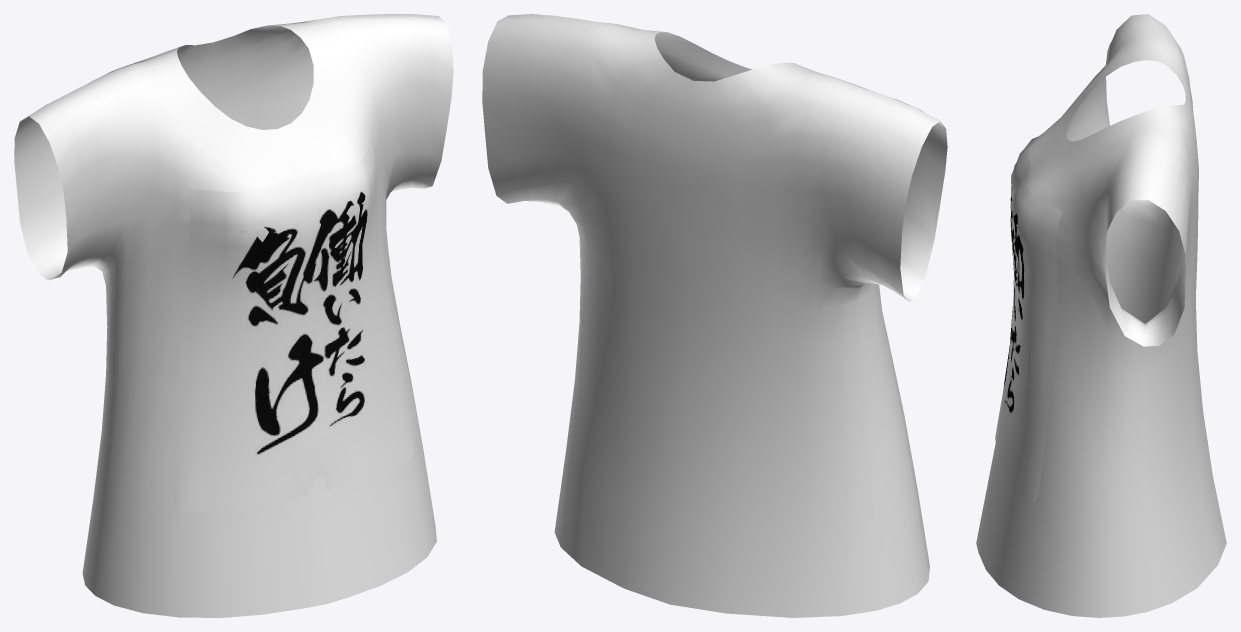
The model's file is yuruT.glb.
3 renders of one model, left to right at view 1: azimuth 30°, elevation 25°; view 2: azimuth 150°, elevation 25°; view 3: azimuth 270°, elevation 25°, orthographic. The views are drawn at different scales.
Visible parts, largest first — view 1: YuruT, hataraitara_make; view 2: YuruT; view 3: YuruT, hataraitara_make.
Part boxes in pixels (x1,y1,x2,y2): YuruT: (14, 14, 453, 617); hataraitara_make: (172, 146, 414, 513); YuruT: (482, 14, 947, 617); YuruT: (976, 14, 1226, 617); hataraitara_make: (995, 136, 1062, 503).
Size of the model in its own units: 0.4734 by 0.5446 by 0.2698.
Materials: 2 (2 with a texture image).
